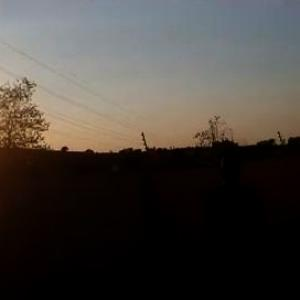follow: (197, 141, 277, 299)
